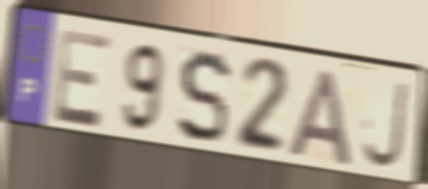2: (236, 55, 292, 155)
9: (119, 40, 168, 136)
A: (286, 66, 355, 170)
E: (51, 25, 115, 132)
J: (359, 78, 410, 173)
S: (175, 47, 233, 148)
